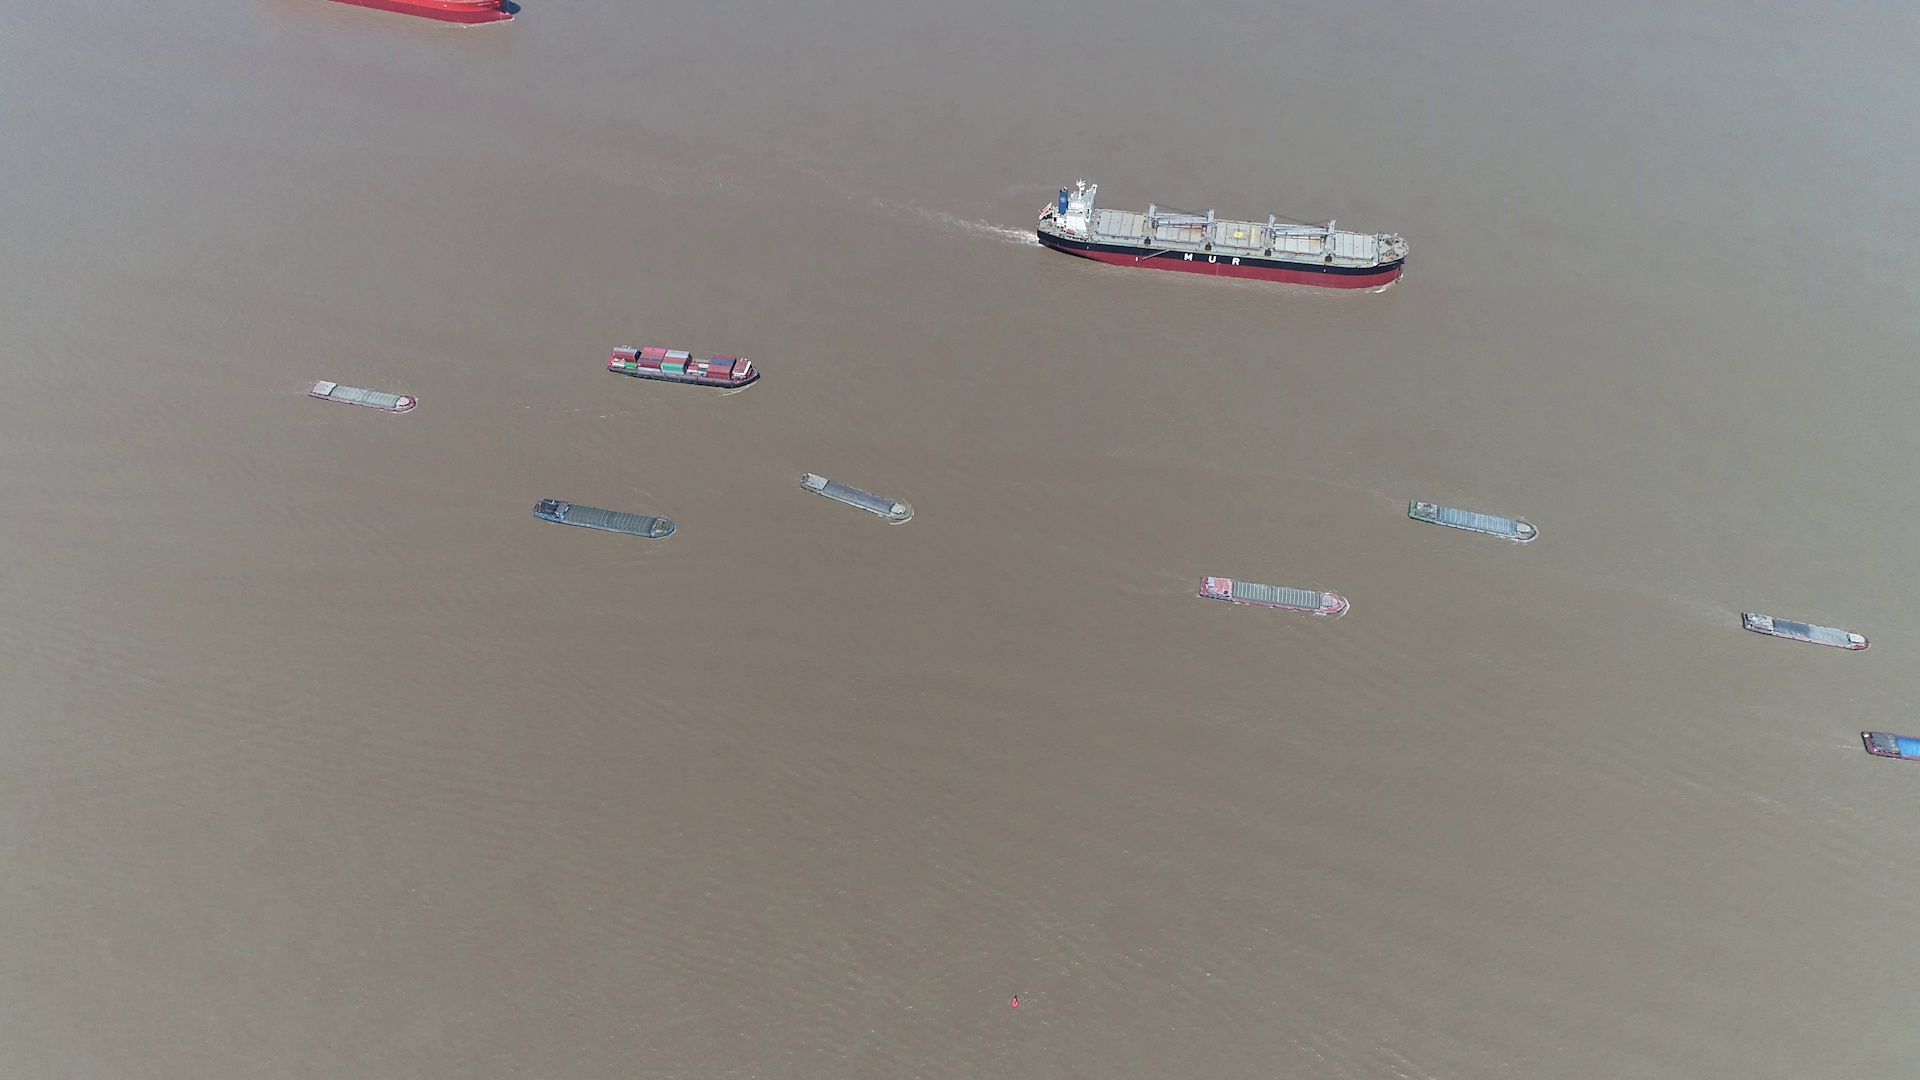ship: (1039, 185, 1408, 287), (609, 345, 758, 386), (800, 472, 913, 526), (533, 498, 675, 541), (1197, 576, 1349, 616), (1404, 498, 1538, 543), (1741, 611, 1871, 651), (310, 380, 417, 413), (1862, 732, 1919, 764)
